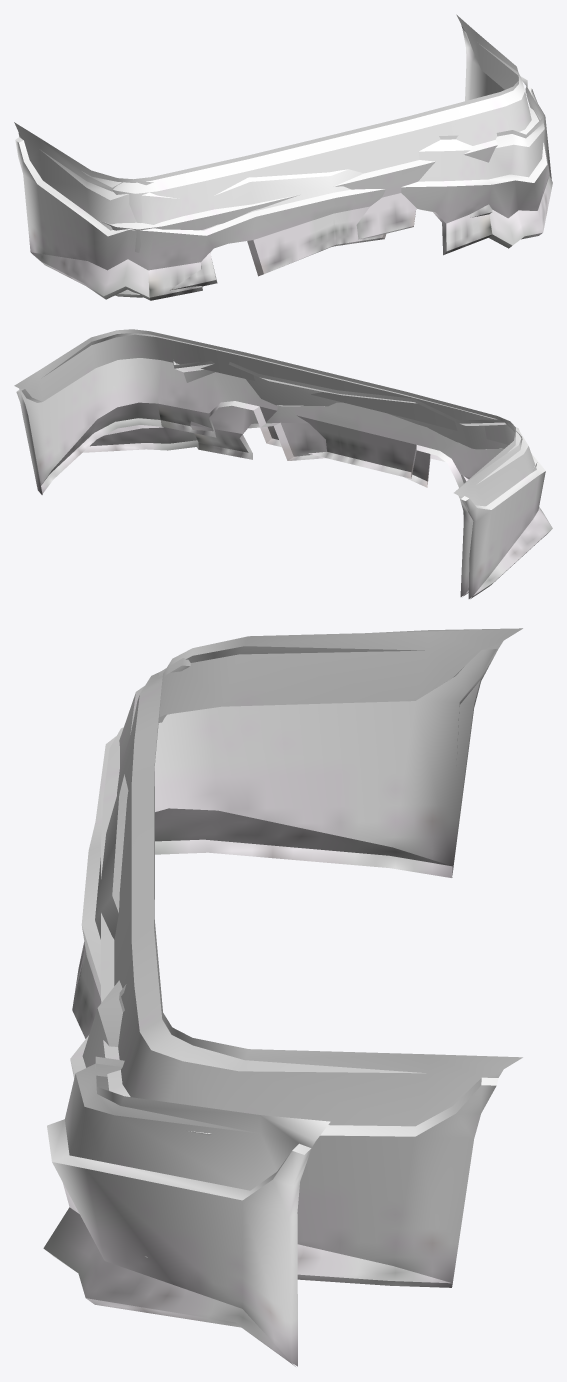
The model's file is rbmp_a_u.glb.
The picture shows the model from 3 angles, top to bottom: view 1: azimuth 30°, elevation 25°; view 2: azimuth 150°, elevation 25°; view 3: azimuth 270°, elevation 25°; orthographic projection. The views are drawn at different scales.
Visible parts, largest first — view 1: rbmp_a_u_dam, rbmp_a_u; view 2: rbmp_a_u, rbmp_a_u_dam; view 3: rbmp_a_u, rbmp_a_u_dam.
Boxes of the visible parts, x1,y1,x2,y2 form: rbmp_a_u_dam: [14, 76, 552, 300]; rbmp_a_u: [14, 14, 538, 297]; rbmp_a_u: [14, 329, 537, 596]; rbmp_a_u_dam: [82, 359, 552, 598]; rbmp_a_u: [101, 628, 522, 1287]; rbmp_a_u_dam: [43, 628, 522, 1366].
Size of the model in its own units: 2.37 by 0.6428 by 1.01.
1 material, 1 textured.
